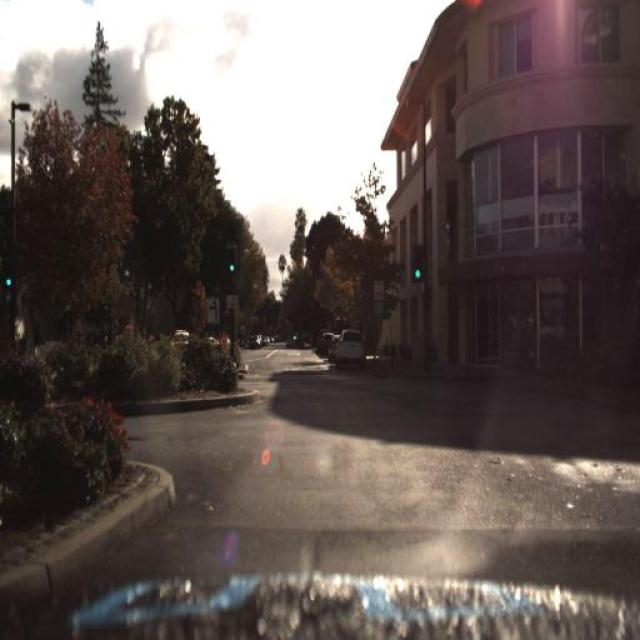car: (335, 320, 367, 366)
trafficLight: (513, 313, 529, 377)
trafficLight-Green: (221, 246, 238, 288), (412, 230, 427, 270)
trafficLight-GreenLeft: (226, 239, 238, 276)
